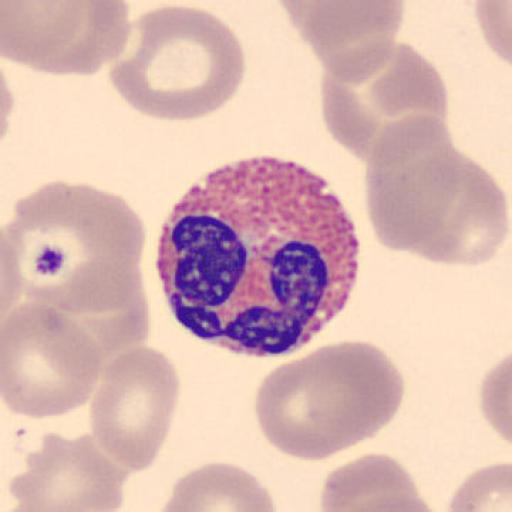Platelet: (30, 241, 70, 279)
RBC: (364, 112, 504, 266), (1, 180, 148, 316), (253, 340, 404, 461), (15, 250, 150, 376), (321, 36, 450, 164), (113, 2, 247, 124), (364, 112, 462, 256), (392, 152, 510, 267), (89, 344, 181, 474), (2, 302, 102, 420), (1, 1, 134, 77), (280, 1, 406, 81), (319, 51, 409, 163), (6, 430, 128, 512), (367, 41, 449, 155), (319, 451, 438, 512), (155, 460, 277, 512), (435, 186, 511, 268), (2, 0, 85, 71), (445, 461, 512, 512), (479, 352, 512, 448), (473, 0, 512, 66), (0, 69, 16, 148)
WBC: (156, 156, 362, 357)
